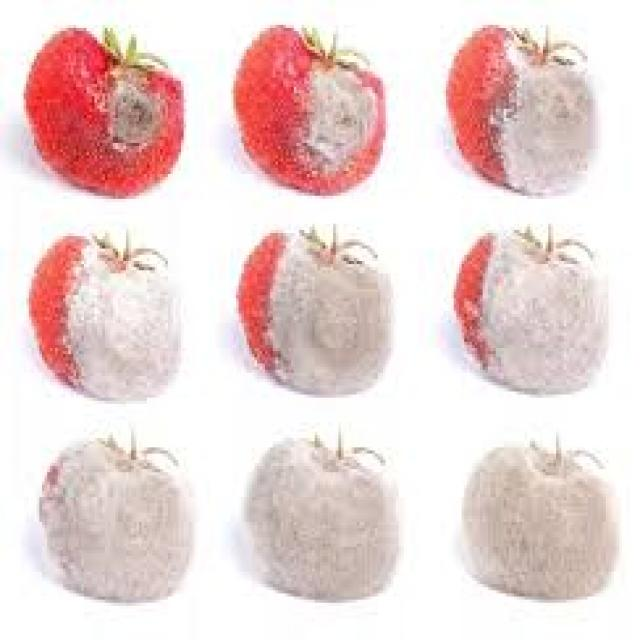organic waste: (21, 25, 184, 196), (456, 428, 614, 596), (446, 18, 595, 195), (236, 220, 388, 392), (451, 220, 603, 388), (231, 22, 383, 190), (244, 435, 396, 600), (37, 435, 189, 600), (29, 230, 178, 398)
